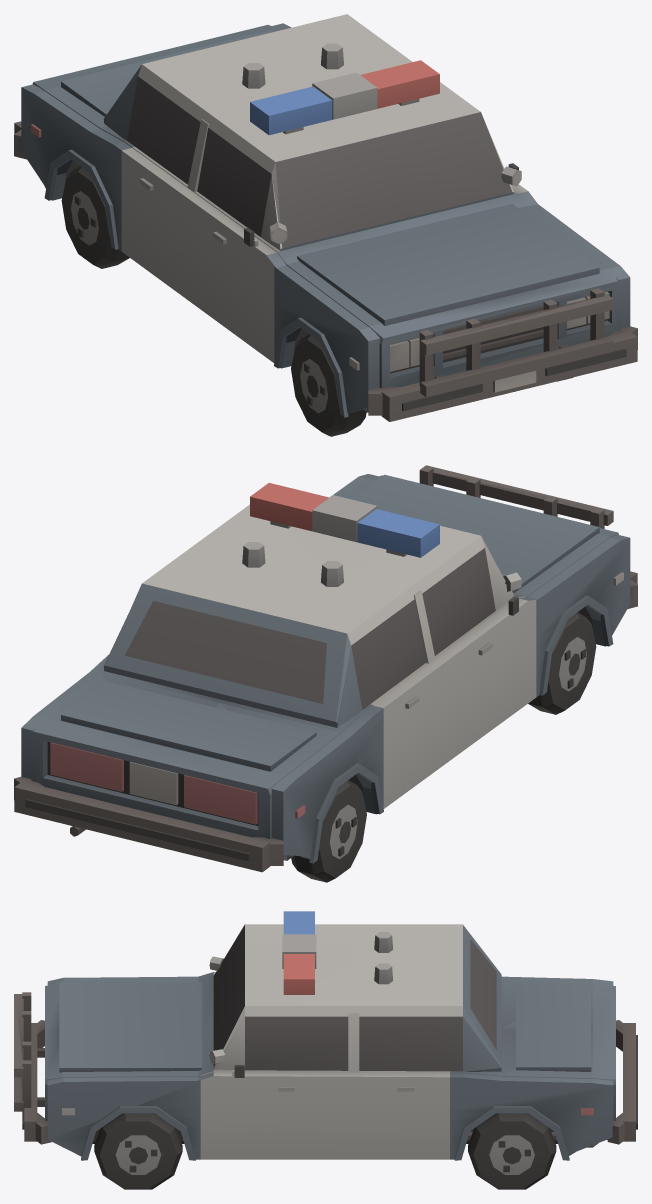
The model's file is cruiser.glb.
3 renders of one model, top to bottom at view 1: azimuth 30°, elevation 25°; view 2: azimuth 150°, elevation 25°; view 3: azimuth 270°, elevation 25°, orthographic. The views are drawn at different scales.
Parts seen in each view (by area): view 1: cruiser; view 2: cruiser; view 3: cruiser.
Boxes of the visible parts, bbox=[...] form: cruiser: bbox=[14, 14, 637, 436]; cruiser: bbox=[14, 465, 637, 882]; cruiser: bbox=[14, 911, 637, 1189].
Bounding box in the file's own units: 1.95 × 1.69 × 4.81.
